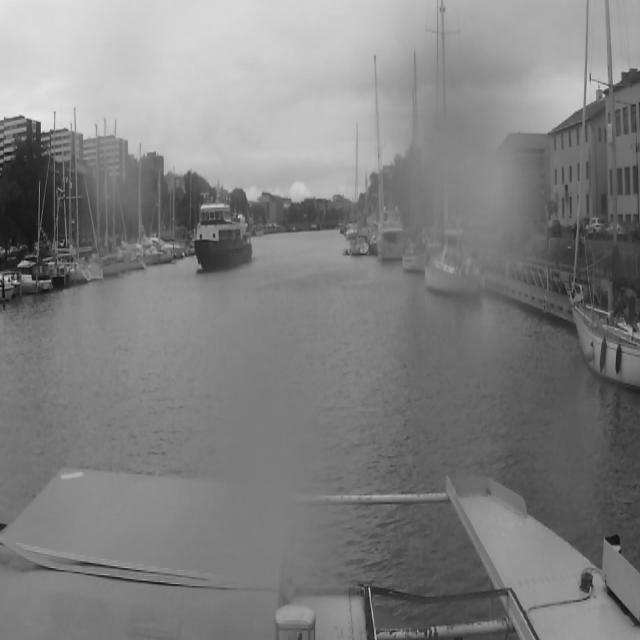ship: (569, 0, 639, 392), (426, 6, 484, 294), (403, 51, 429, 268), (197, 199, 253, 270), (353, 126, 369, 254), (9, 254, 55, 294), (374, 204, 404, 258)
